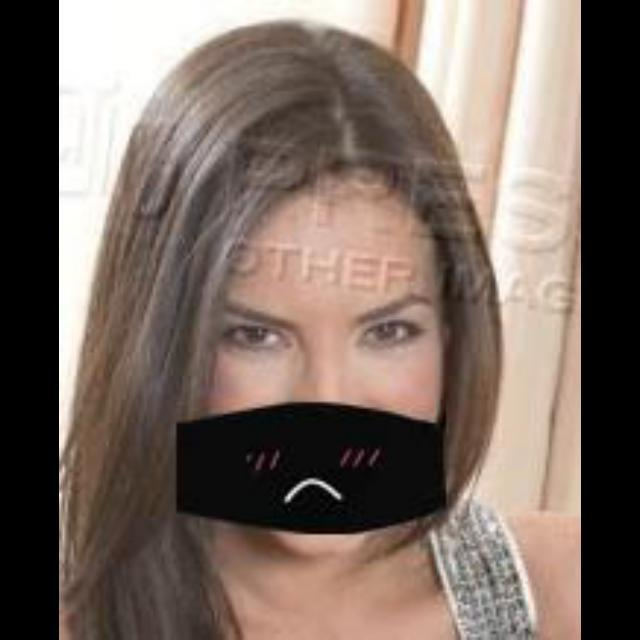suspicion: (202, 100, 438, 540)
